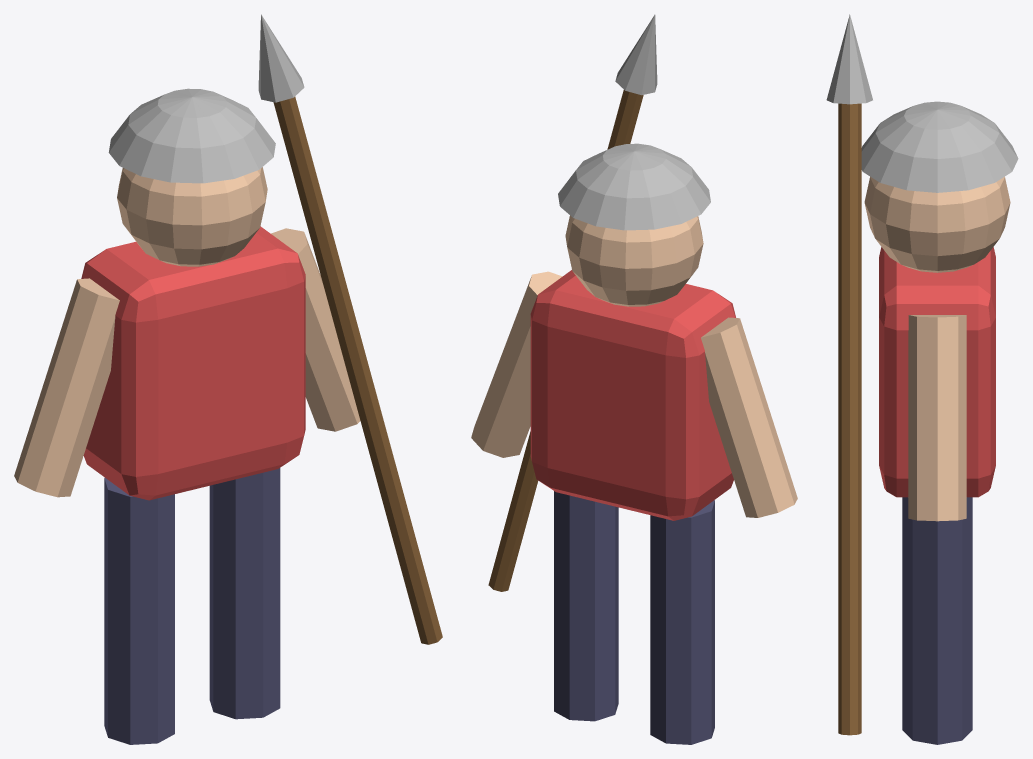
File: warrior.glb
3 renders of one model, left to right at view 1: azimuth 30°, elevation 25°; view 2: azimuth 150°, elevation 25°; view 3: azimuth 270°, elevation 25°, orthographic. The views are drawn at different scales.
Parts seen in each view (by area): view 1: Torso, Leg_L, Leg_R, SpearShaft, Arm_L, Helmet, Head, Arm_R, SpearHead; view 2: Torso, Leg_L, Leg_R, Arm_L, Helmet, Head, Arm_R, SpearShaft, SpearHead; view 3: Torso, Leg_R, SpearShaft, Arm_R, Helmet, Head, SpearHead.
Part boxes in pixels (box(x1,y1,x2,y2)): Torso: box(81, 226, 305, 500); Leg_L: box(104, 478, 174, 744); Leg_R: box(209, 468, 280, 719); SpearShaft: box(273, 96, 442, 644); Arm_L: box(14, 278, 119, 497); Helmet: box(108, 88, 275, 183); Head: box(117, 167, 267, 266); Arm_R: box(271, 228, 360, 431); SpearHead: box(258, 14, 304, 102); Torso: box(530, 270, 735, 520); Leg_L: box(650, 500, 714, 744); Leg_R: box(554, 491, 618, 721); Arm_L: box(701, 317, 797, 517); Helmet: box(558, 143, 710, 230); Head: box(565, 215, 703, 306); Arm_R: box(471, 271, 562, 457); SpearShaft: box(488, 90, 643, 591); SpearHead: box(615, 14, 657, 95); Torso: box(879, 247, 995, 497); Leg_R: box(902, 497, 972, 744); SpearShaft: box(838, 103, 861, 735); Arm_R: box(908, 315, 966, 521); Helmet: box(861, 101, 1018, 192); Head: box(864, 176, 1010, 272); SpearHead: box(826, 14, 872, 104).
Bounding box in the file's own units: 1.44 × 2.65 × 0.6572.
